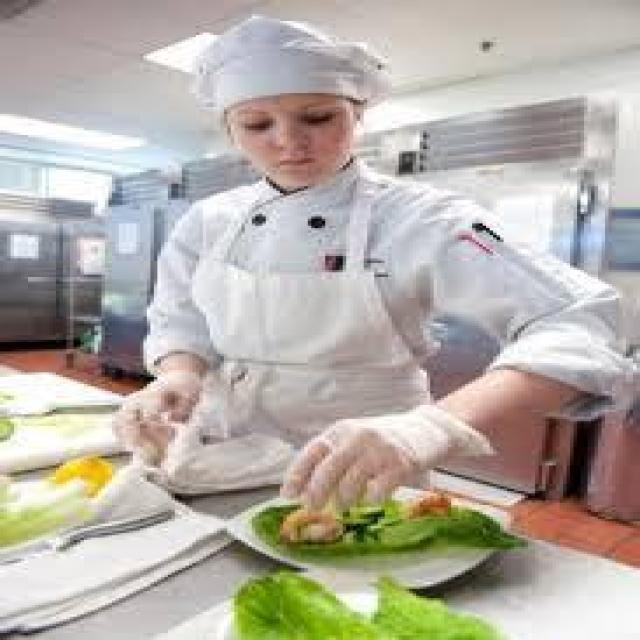apron: (286, 414, 492, 516), (99, 372, 205, 460)
